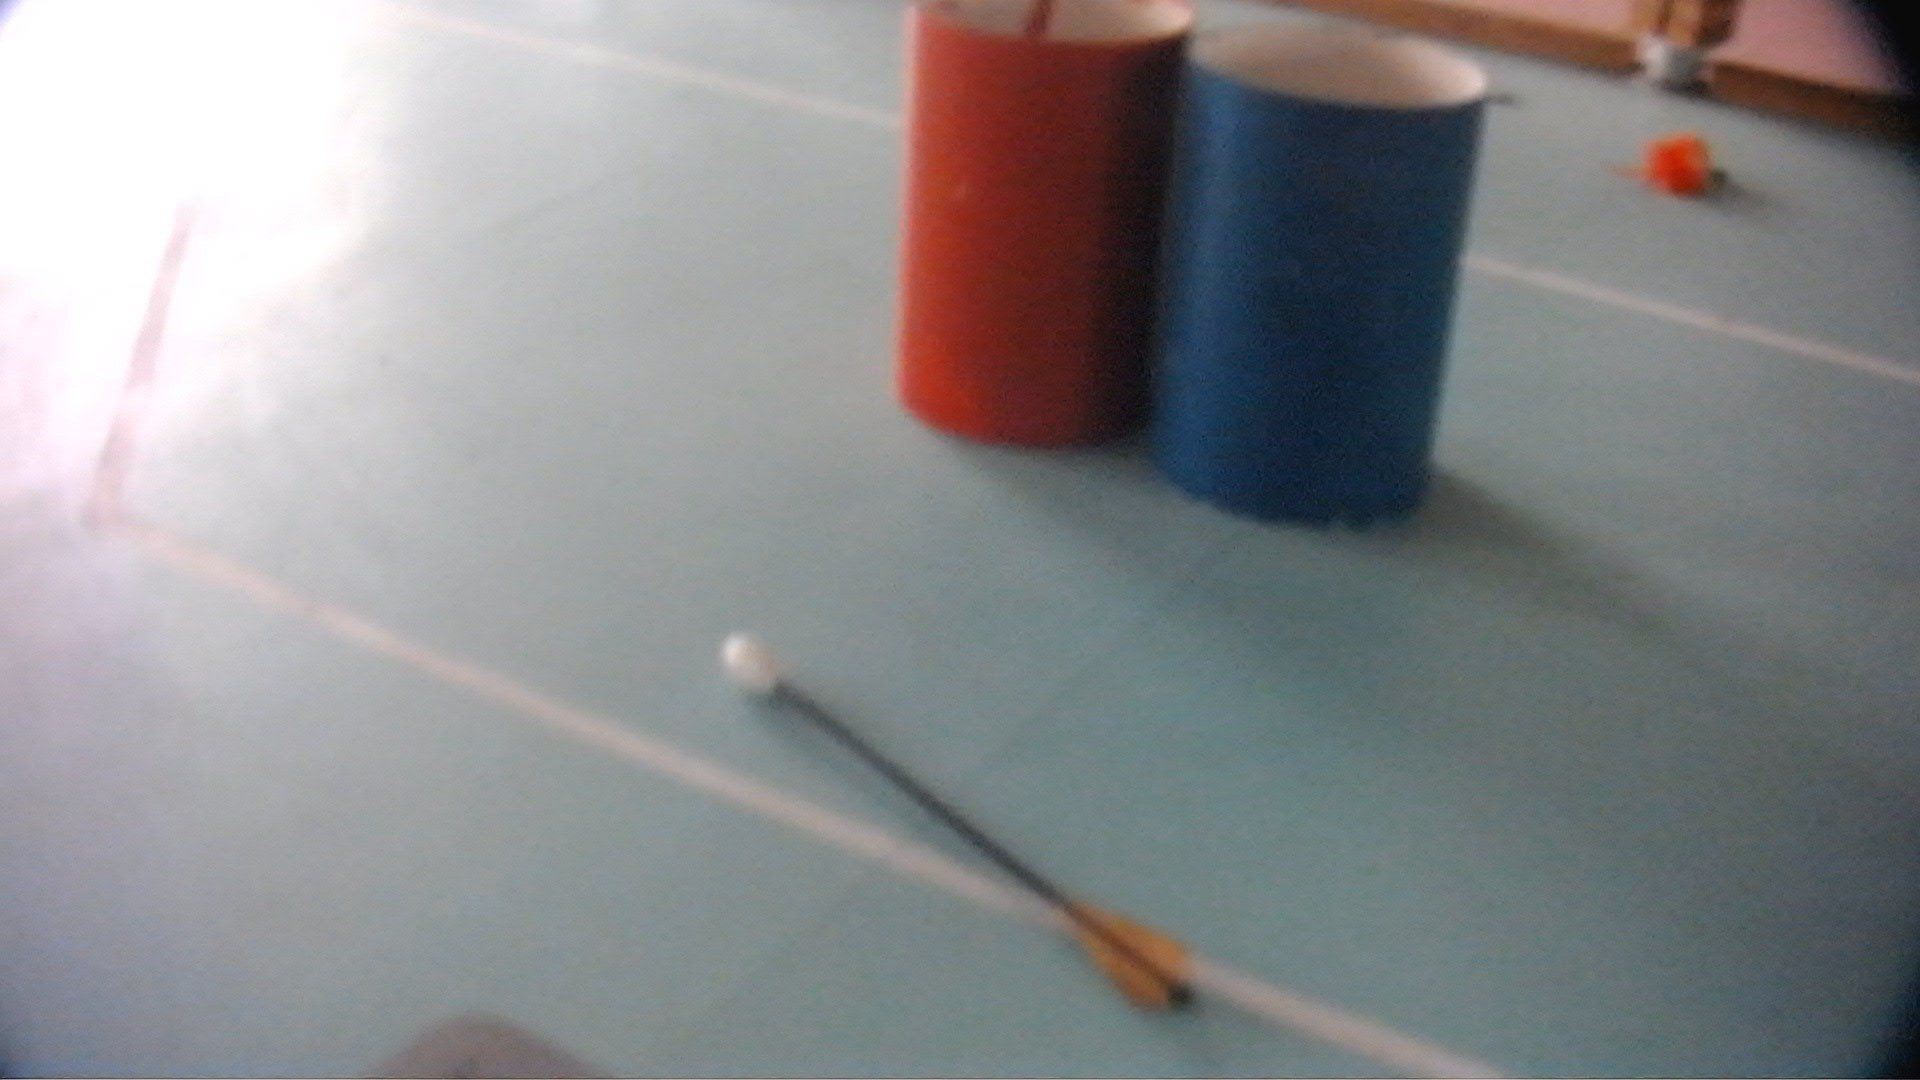arrow: (721, 630, 1196, 1015)
arrowFront: (721, 630, 783, 694)
